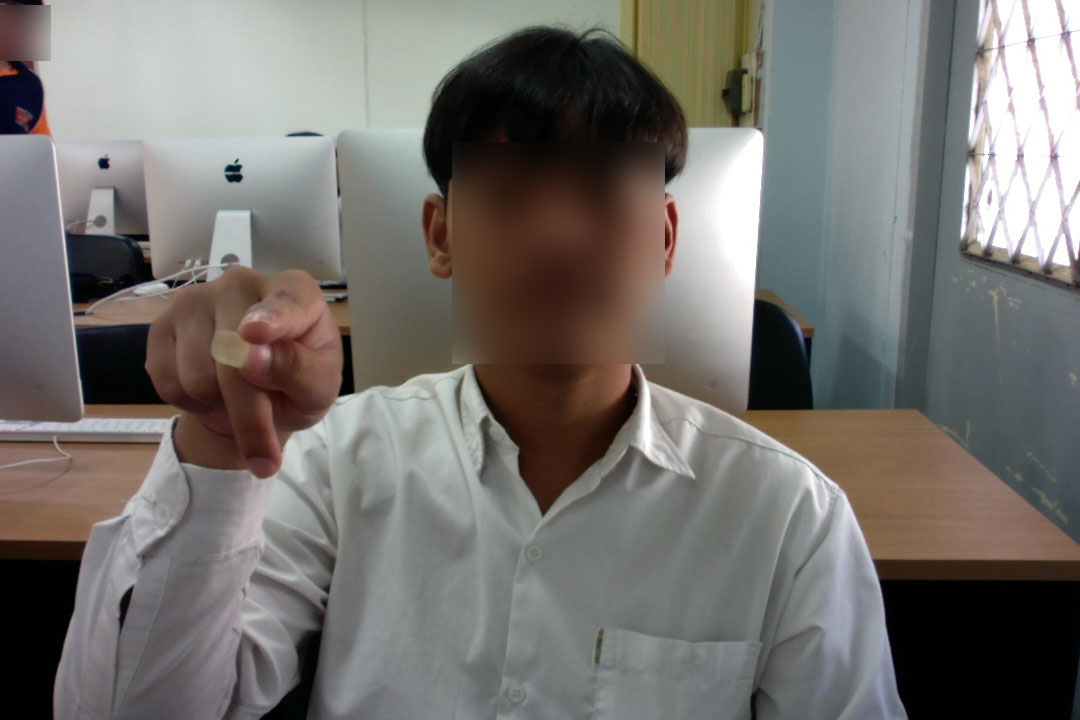por: (136, 242, 348, 486)
